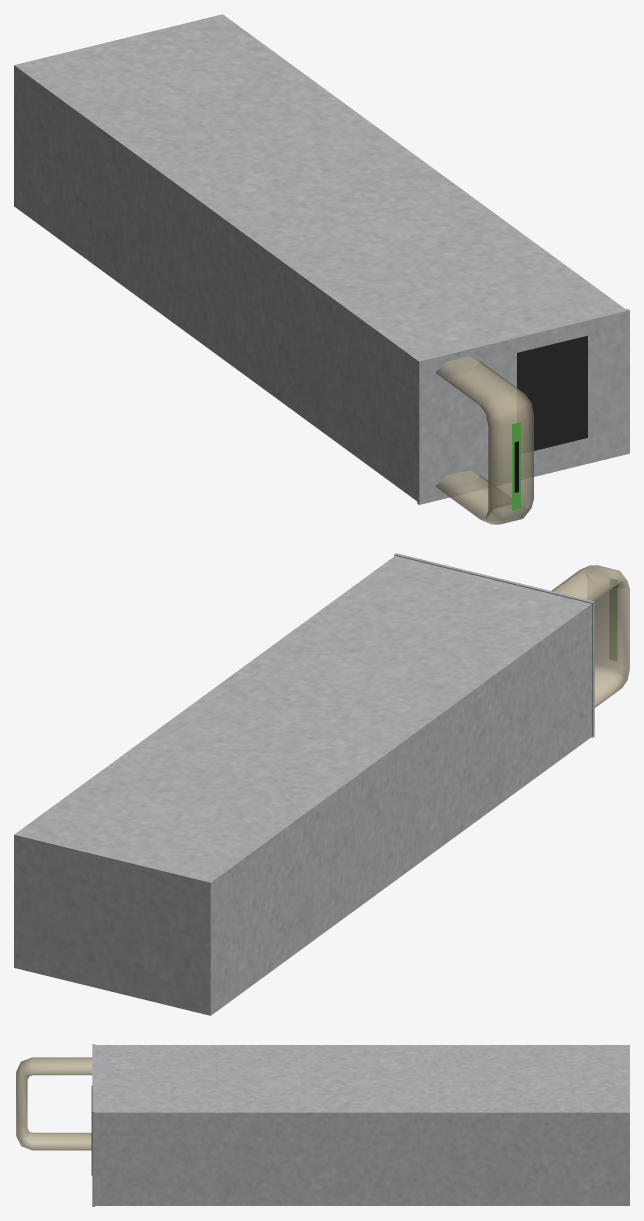
Rendered from DELL-PSU-R350-600W.far.glb.
3 views of the same model, one above another, from view 1: azimuth 30°, elevation 25°; view 2: azimuth 150°, elevation 25°; view 3: azimuth 270°, elevation 25° (orthographic). The views are drawn at different scales.
Visible parts, largest first — view 1: PSU_Handle_far; view 2: PSU_Handle_far; view 3: PSU_Handle_far.
Part boxes in pixels (x1,y1,x2,y2): PSU_Handle_far: (14,14,629,524); PSU_Handle_far: (14,553,629,1015); PSU_Handle_far: (16,1044,629,1206).
Bounding box in the file's own units: 0.06 × 0.039 × 0.2294.
4 materials, 2 textured.
